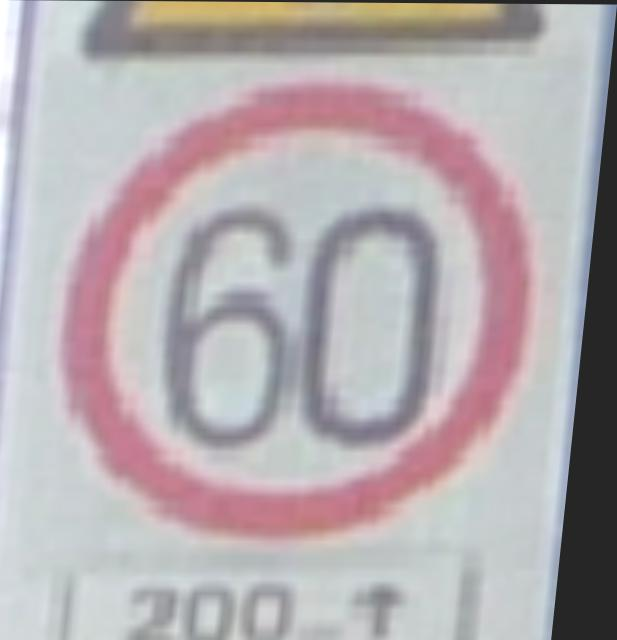limit60: (37, 63, 575, 550)
